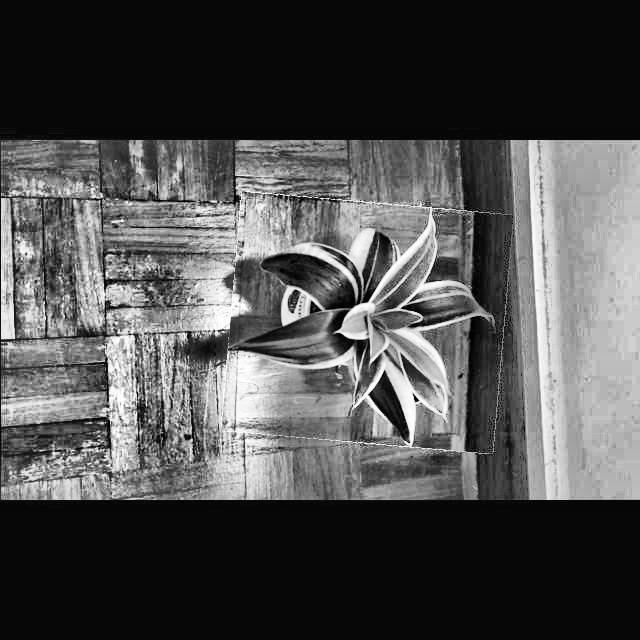plants: (225, 197, 508, 449)
